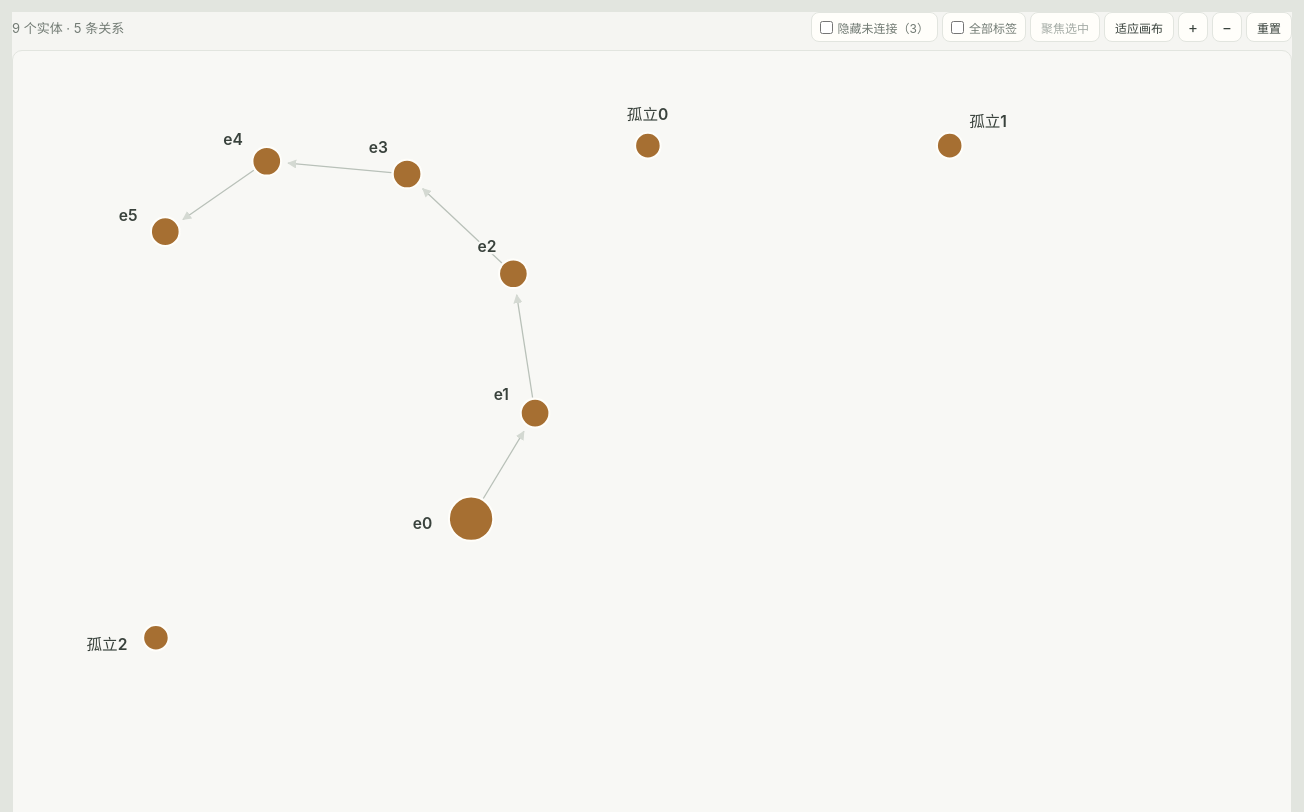
Test: GraphCanvas › can hide unconnected entities
The image size is (1304, 812).
Check: the text "隐藏未连接（3）" is shown, box [810,12,938,42]
Click the checkbox labelled "隐藏未连接（3）": {"x": 826, "y": 27} [820,20,832,34]
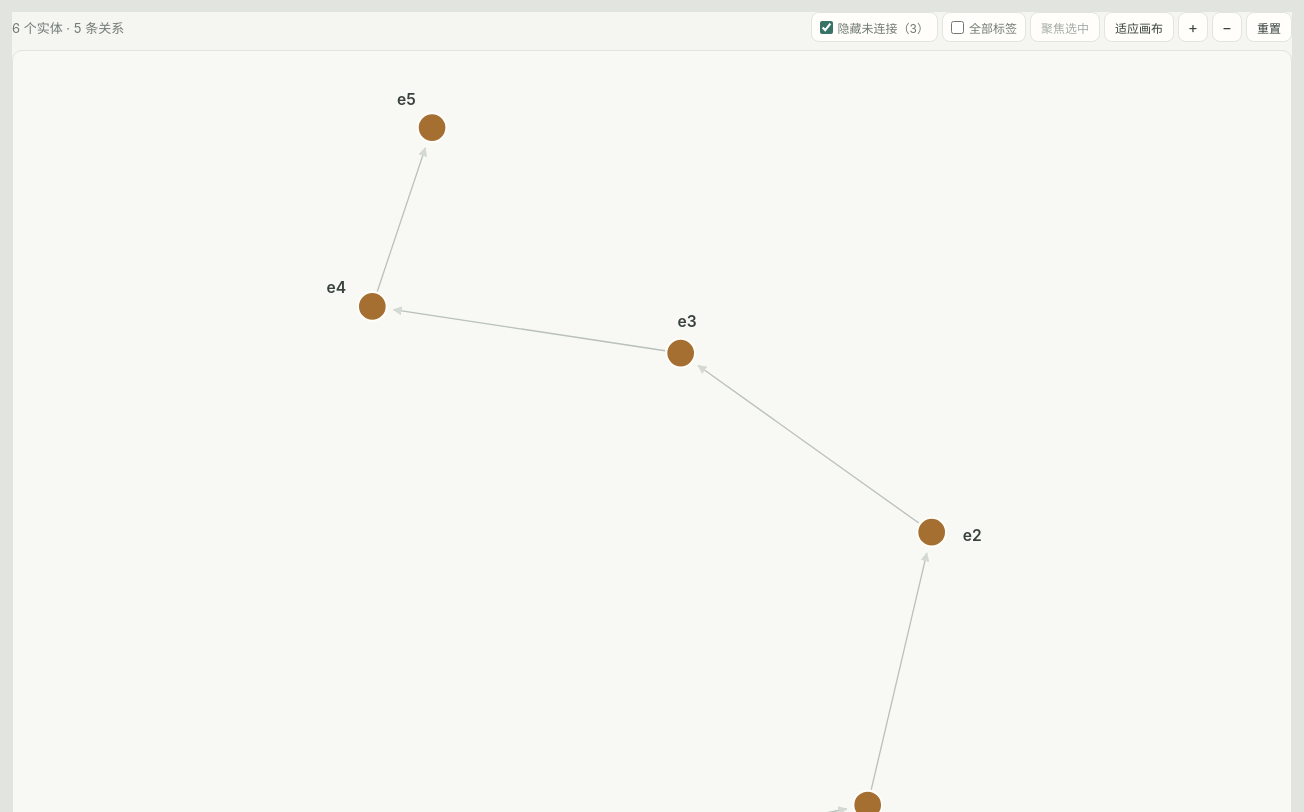
Check: the text "6 个实体 · 5 条关系" is shown, box [12,18,124,36]
